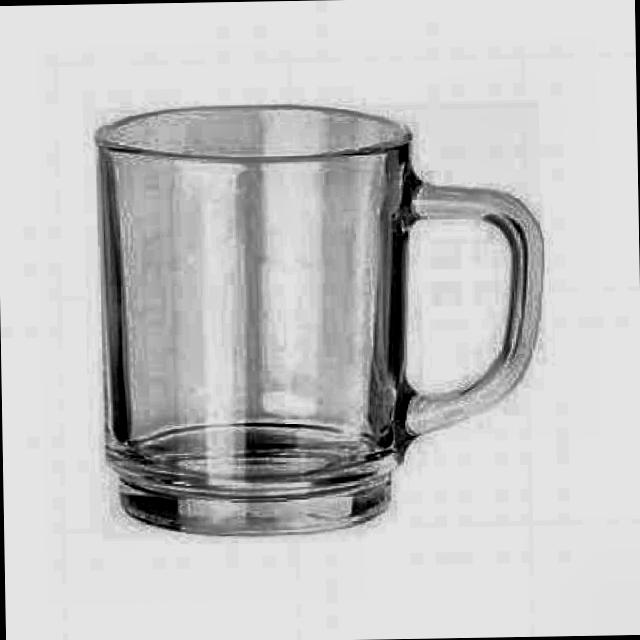Mug: (90, 99, 548, 542)
